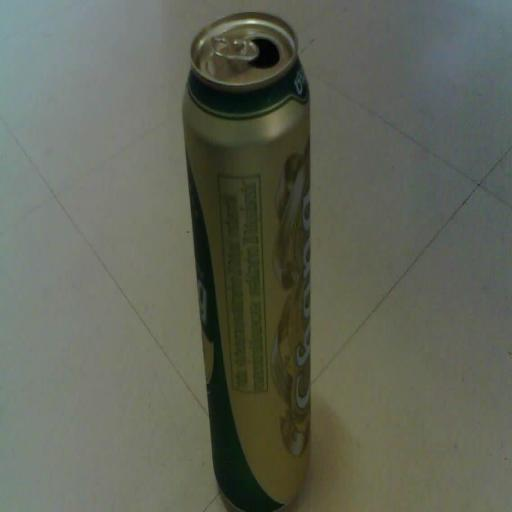canned: (177, 0, 335, 512)
